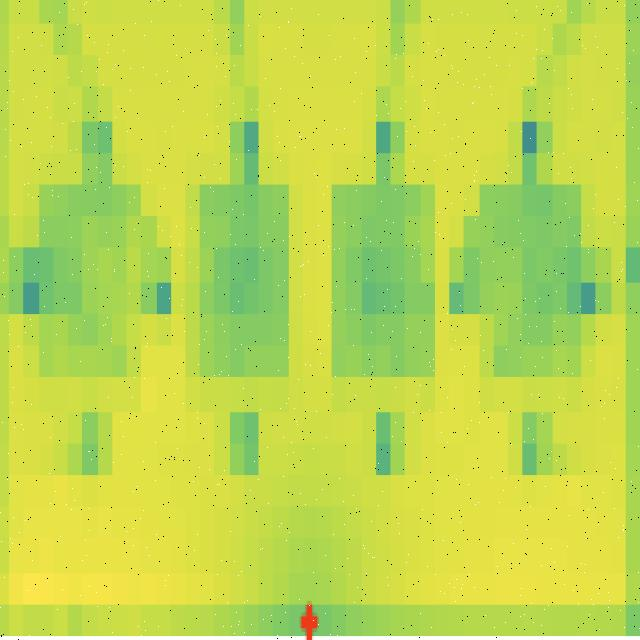Concrete: (328, 165, 439, 412)
Glass: (184, 172, 298, 413)
Metal: (472, 175, 590, 408)
Wood: (31, 170, 146, 400)
